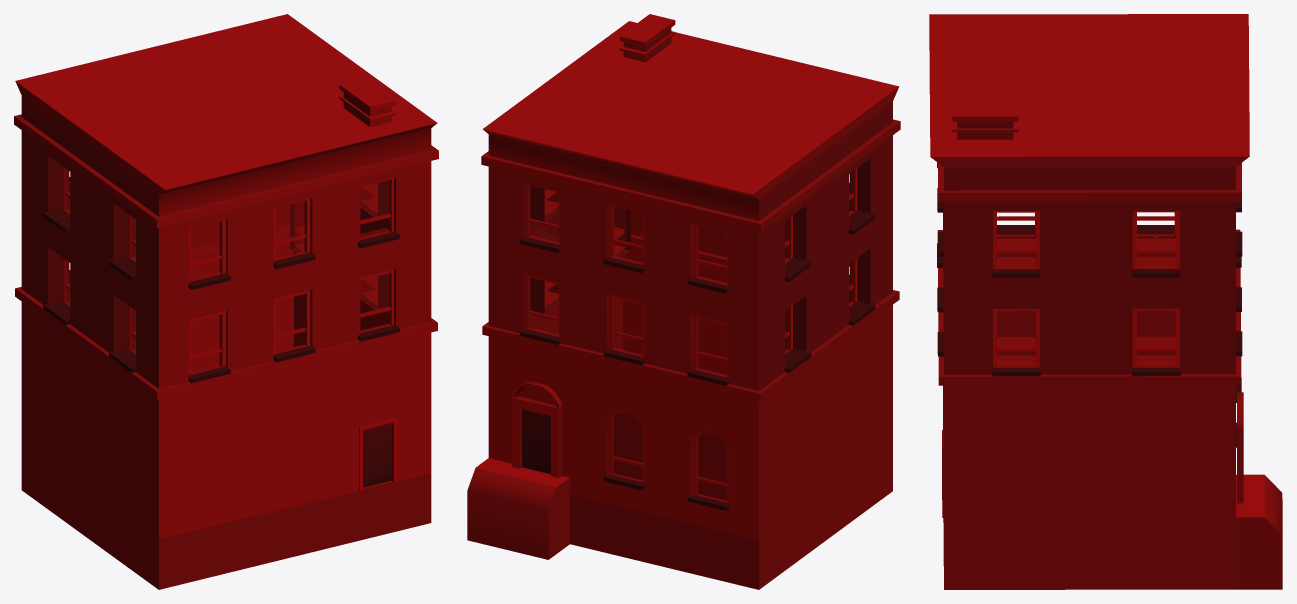
3 views of the same model, side by side, from view 1: azimuth 30°, elevation 25°; view 2: azimuth 150°, elevation 25°; view 3: azimuth 270°, elevation 25° (orthographic). The views are drawn at different scales.
Parts seen in each view (by area): view 1: base.159; view 2: base.159; view 3: base.159.
Boxes of the visible parts, box(x1,y1,x2,y2) form: base.159: box(14, 14, 438, 589); base.159: box(467, 14, 900, 589); base.159: box(929, 14, 1282, 589).
Bounding box in the file's own units: 1115 × 1104 × 1590.
